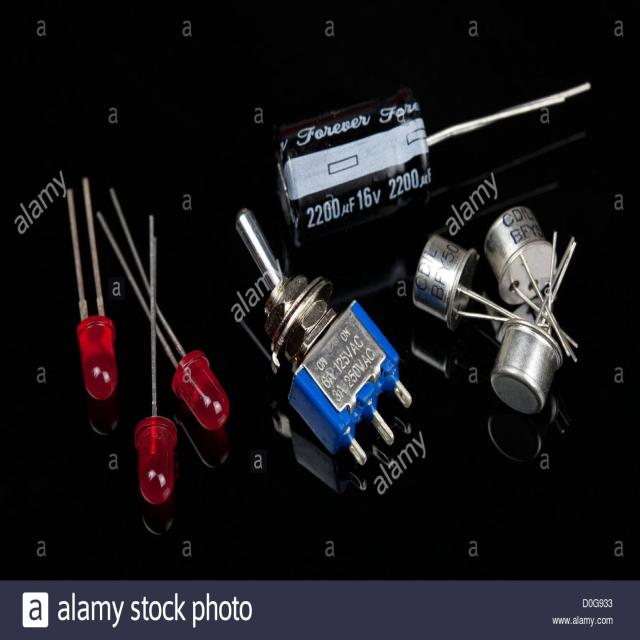capacitor: (278, 82, 591, 241), (97, 189, 229, 428), (414, 234, 579, 354), (489, 230, 578, 412), (484, 204, 577, 362), (66, 178, 118, 398), (136, 212, 175, 502)
